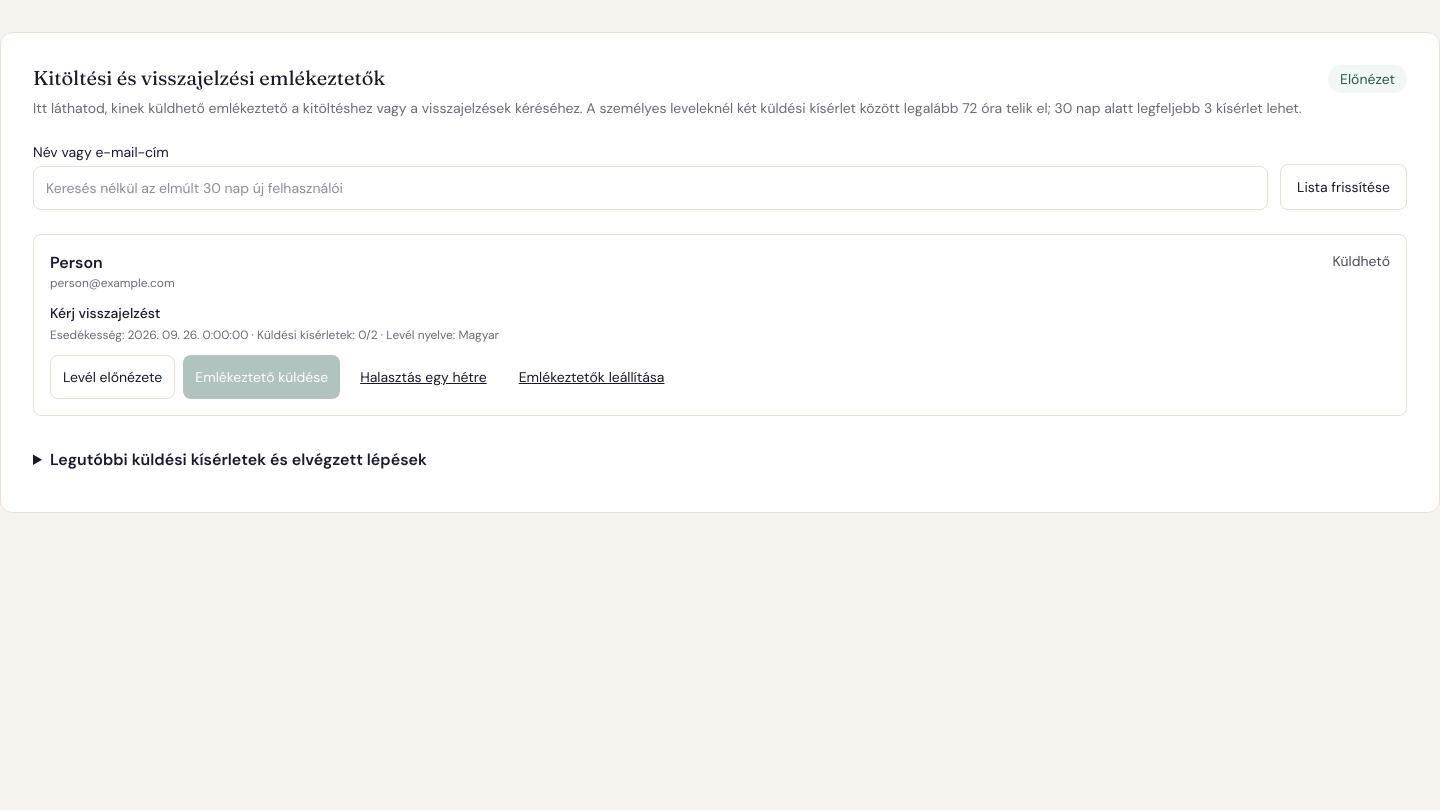
follow-up preferences › preview mode shows the message but disables sending
Expected: the button "Emlékeztető küldése" is disabled, x1=183 y1=355 x2=340 y2=399
Click the button "Levél előnézete": (113, 377) x1=50 y1=355 x2=175 y2=399
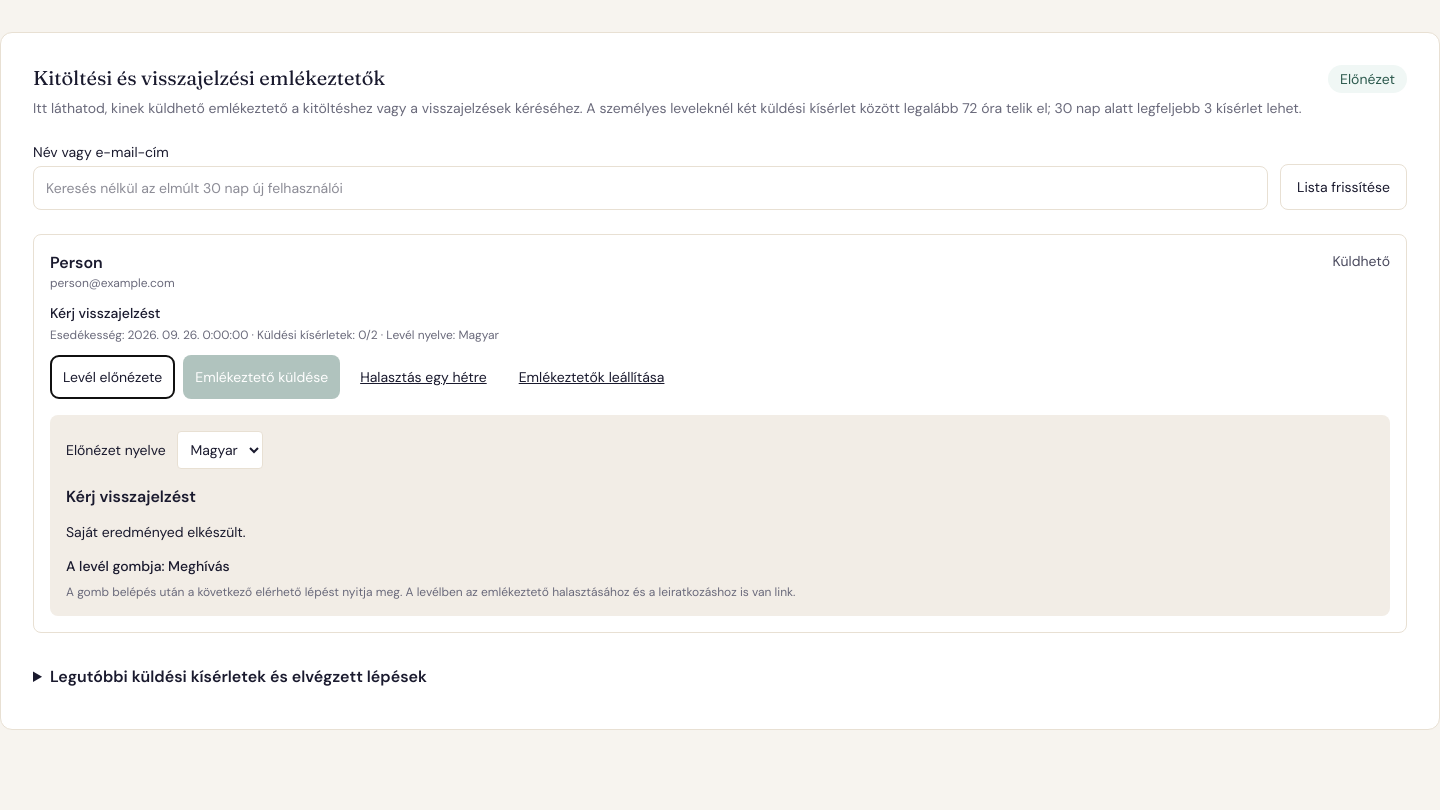
Select "Angol" in the dropdown labelled "Előnézet nyelve": (220, 450) x1=177 y1=431 x2=263 y2=469
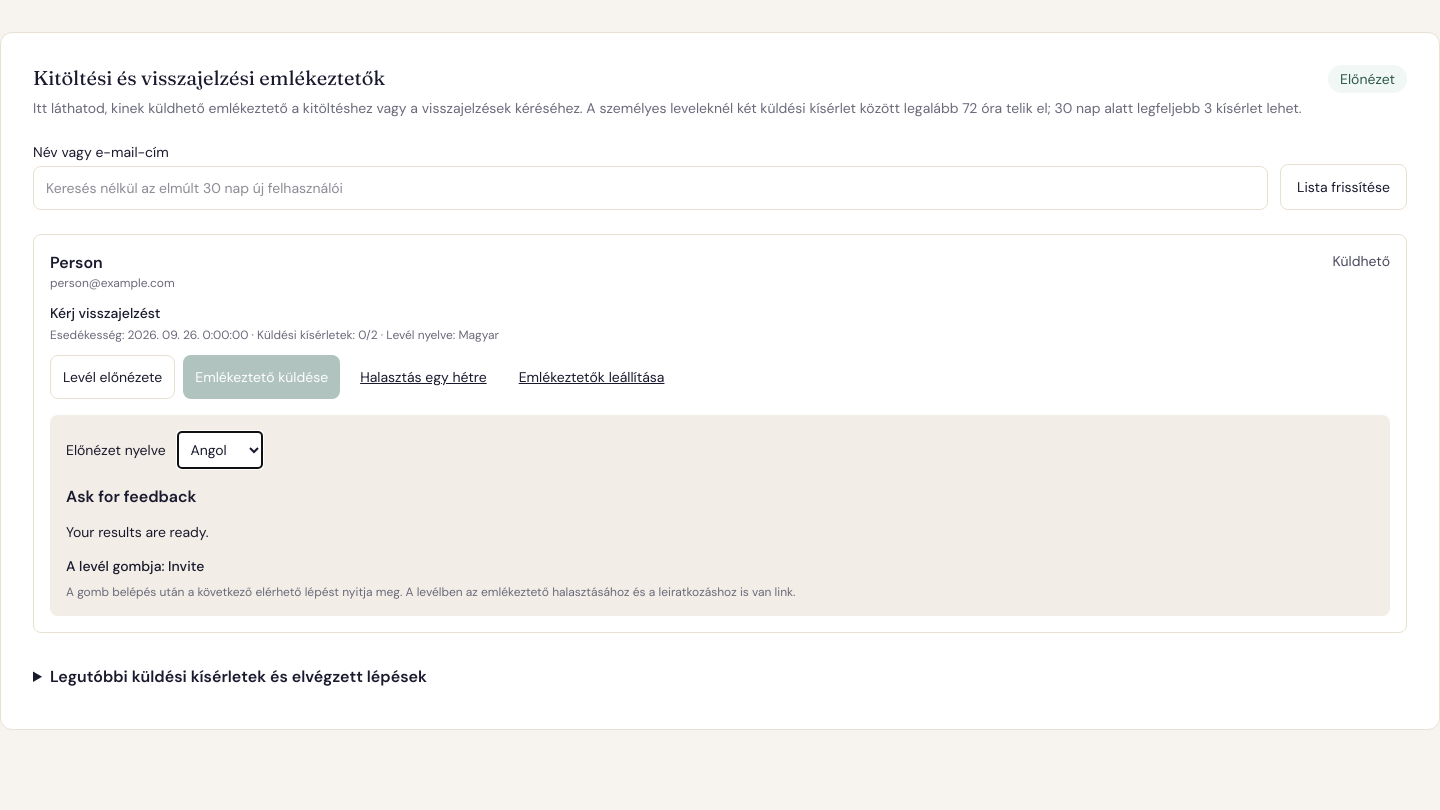
Now the text "Your results are ready." is shown, box x1=66 y1=523 x2=208 y2=541
